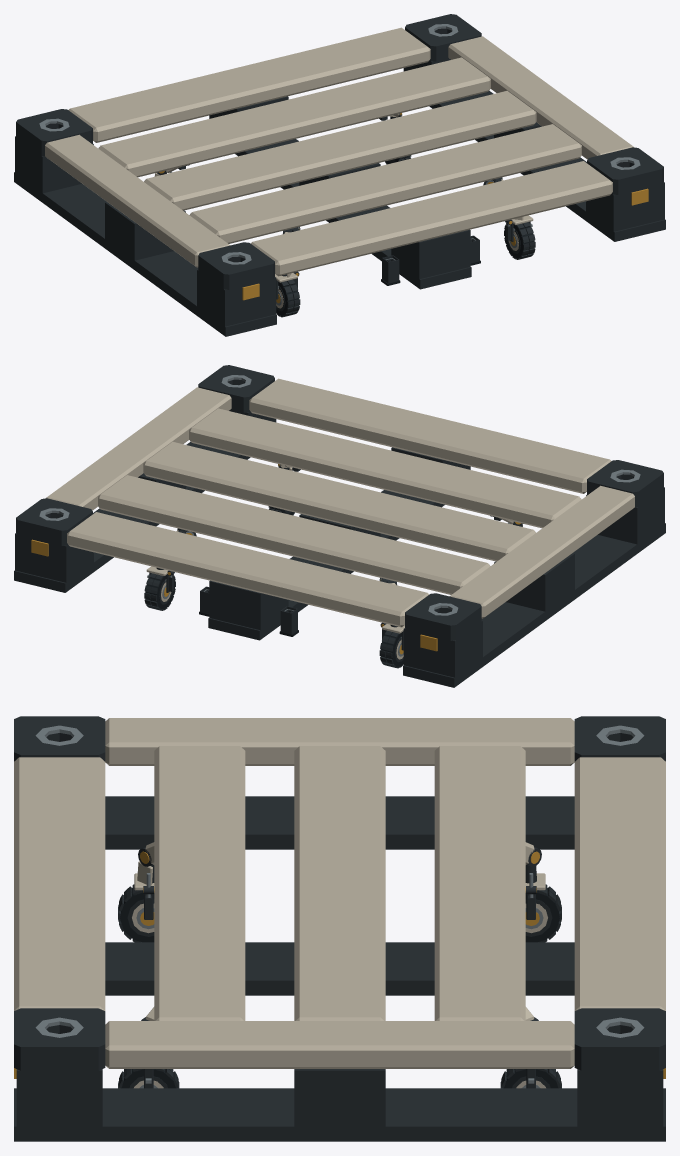
Rendered from stride02_deployed_d0_lod1.glb.
The picture shows the model from 3 angles, top to bottom: view 1: azimuth 30°, elevation 25°; view 2: azimuth 150°, elevation 25°; view 3: azimuth 270°, elevation 25°; orthographic projection. The views are drawn at different scales.
Parts seen in each view (by area): view 1: PALLET_SURFACE, WHEEL_FR_SURFACE, WHEEL_FL_SURFACE, PARK_HOUSINGS_SURFACE; view 2: PALLET_SURFACE, WHEEL_RR_SURFACE, WHEEL_RL_SURFACE, PARK_HOUSINGS_SURFACE; view 3: PALLET_SURFACE, WHEEL_FL_SURFACE, WHEEL_RL_SURFACE, WHEEL_FR_SURFACE, WHEEL_RR_SURFACE.
Part boxes in pixels (x1,y1,x2,y2): PALLET_SURFACE: [14, 14, 665, 336]; WHEEL_FR_SURFACE: [504, 222, 535, 259]; WHEEL_FL_SURFACE: [276, 279, 300, 317]; PARK_HOUSINGS_SURFACE: [382, 235, 479, 283]; PALLET_SURFACE: [14, 365, 665, 687]; WHEEL_RR_SURFACE: [144, 573, 175, 610]; WHEEL_RL_SURFACE: [379, 630, 403, 668]; PARK_HOUSINGS_SURFACE: [200, 586, 297, 634]; PALLET_SURFACE: [14, 716, 665, 1141]; WHEEL_FL_SURFACE: [118, 884, 154, 942]; WHEEL_RL_SURFACE: [525, 884, 561, 942]; WHEEL_FR_SURFACE: [118, 1069, 179, 1088]; WHEEL_RR_SURFACE: [500, 1069, 561, 1088].
Bounding box in the file's own units: 1.2 × 0.25 × 1.
